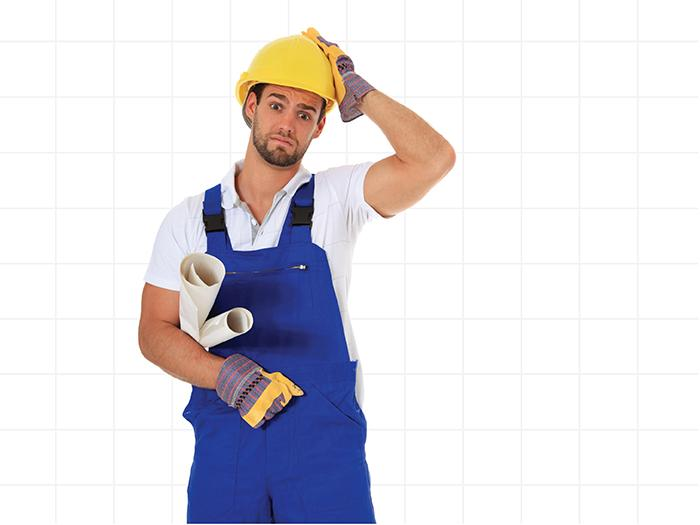helmet: (238, 35, 345, 112)
